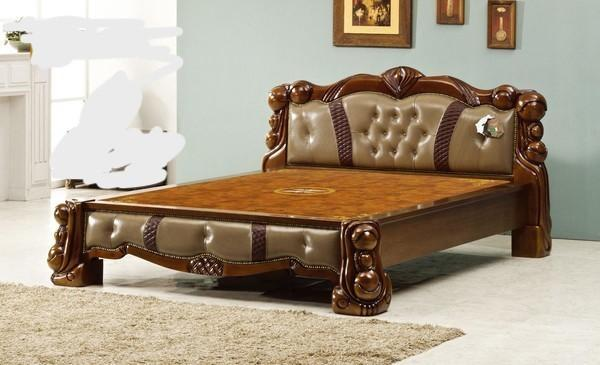Bed-Mattress: (41, 62, 566, 336)
